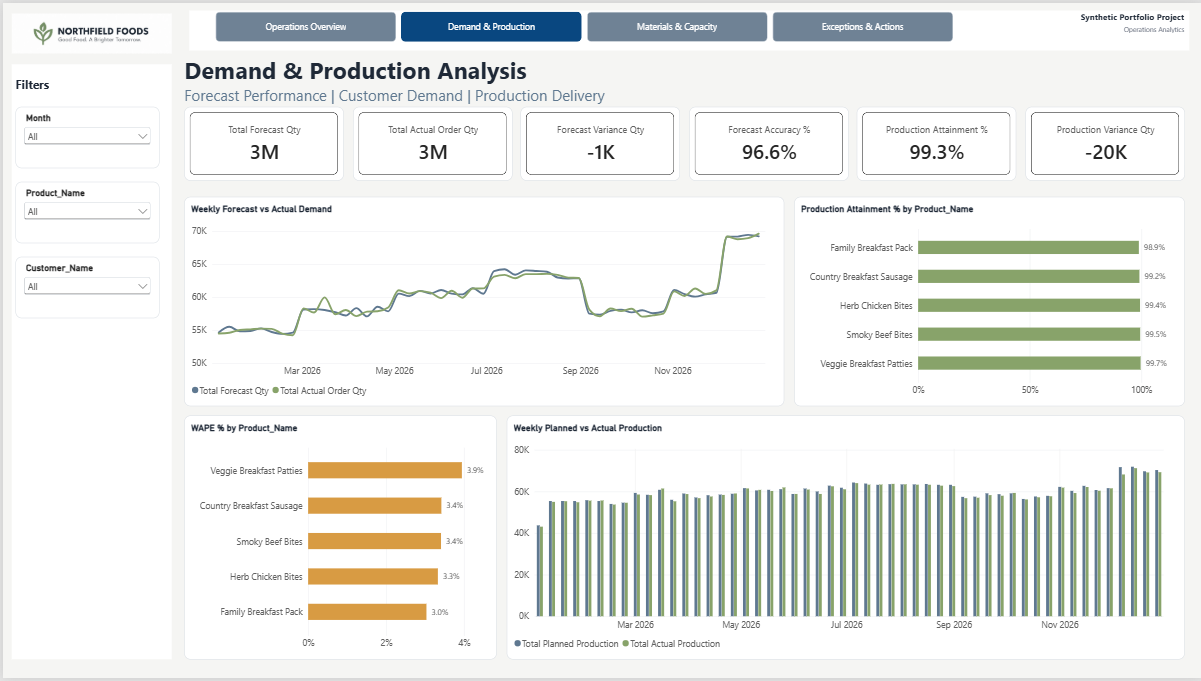

The page's visual inventory and layout, read from the dashboard file:
{"tool":"powerbi","page":{"name":"Demand & Production","canvas":[1920,1080],"ordinal":1},"visuals":[{"type":"shape","box":[298,12,1600,64],"z":0},{"type":"shape","box":[14,98,256,952],"z":1000},{"type":"textbox","box":[290,82,1400,84],"z":2000},{"type":"slicer","fields":{"Values":["dim_Week.Month"]},"box":[20,165,230,98],"z":3000},{"type":"slicer","fields":{"Values":["dim_Product.Product_Name"]},"box":[20,285,230,98],"z":4000},{"type":"slicer","fields":{"Values":["dim_Customer.Customer_Name"]},"box":[20,405,230,98],"z":5000},{"type":"cardVisual","fields":{"Data":["_Measures.Total Forecast Qty"]},"box":[290,165,255,118],"z":6000},{"type":"cardVisual","fields":{"Data":["_Measures.Total Actual Order Qty"]},"box":[559,165,255,118],"z":7000},{"type":"cardVisual","fields":{"Data":["_Measures.Forecast Variance Qty"]},"box":[828,165,255,118],"z":8000},{"type":"cardVisual","fields":{"Data":["_Measures.Forecast Accuracy %"]},"box":[1097,165,255,118],"z":9000},{"type":"cardVisual","fields":{"Data":["_Measures.Production Attainment %"]},"box":[1366,165,255,118],"z":10000},{"type":"cardVisual","fields":{"Data":["_Measures.Production Variance Qty"]},"box":[1635,165,255,118],"z":11000},{"type":"lineChart","title":"Weekly Forecast vs Actual Demand","fields":{"Category":["dim_Week.Week_Start"],"Y":["_Measures.Total Forecast Qty","_Measures.Total Actual Order Qty"]},"box":[290,310,960,335],"z":12000},{"type":"clusteredBarChart","fields":{"Category":["dim_Product.Product_Name"],"Y":["_Measures.WAPE %"]},"box":[290,660,500,390],"z":13000},{"type":"clusteredColumnChart","title":"Weekly Planned vs Actual Production","fields":{"Category":["dim_Week.Week_Start"],"Y":["_Measures.Total Planned Production","_Measures.Total Actual Production"]},"box":[805,660,1085,390],"z":14000},{"type":"clusteredBarChart","fields":{"Category":["dim_Product.Product_Name"],"Y":["_Measures.Production Attainment %"]},"box":[1265,310,625,335],"z":15000},{"type":"textbox","box":[20,118,230,38],"z":16000},{"type":"textbox","box":[1600,12,290,52],"z":18000},{"type":"pageNavigator","box":[340,14,1180,48],"z":19000},{"type":"image","box":[14,0,256,98],"z":19001}]}

Visuals, with their boxes in screenshot pixels (x1, y1, x2, y2), scaled from the page's 1920x1080 canvas onto the 1201x681 screenshot:
shape: bbox=(186, 8, 1187, 48)
shape: bbox=(9, 62, 169, 662)
textbox: bbox=(181, 52, 1057, 105)
slicer - dim_Week.Month: bbox=(13, 104, 156, 166)
slicer - dim_Product.Product_Name: bbox=(13, 180, 156, 242)
slicer - dim_Customer.Customer_Name: bbox=(13, 255, 156, 317)
cardVisual - _Measures.Total Forecast Qty: bbox=(181, 104, 341, 178)
cardVisual - _Measures.Total Actual Order Qty: bbox=(350, 104, 509, 178)
cardVisual - _Measures.Forecast Variance Qty: bbox=(518, 104, 677, 178)
cardVisual - _Measures.Forecast Accuracy %: bbox=(686, 104, 846, 178)
cardVisual - _Measures.Production Attainment %: bbox=(854, 104, 1014, 178)
cardVisual - _Measures.Production Variance Qty: bbox=(1023, 104, 1182, 178)
"Weekly Forecast vs Actual Demand" lineChart: bbox=(181, 195, 782, 407)
clusteredBarChart - dim_Product.Product_Name x _Measures.WAPE %: bbox=(181, 416, 494, 662)
"Weekly Planned vs Actual Production" clusteredColumnChart: bbox=(504, 416, 1182, 662)
clusteredBarChart - dim_Product.Product_Name x _Measures.Production Attainment %: bbox=(791, 195, 1182, 407)
textbox: bbox=(13, 74, 156, 98)
textbox: bbox=(1001, 8, 1182, 40)
pageNavigator: bbox=(213, 9, 951, 39)
image: bbox=(9, 0, 169, 62)
